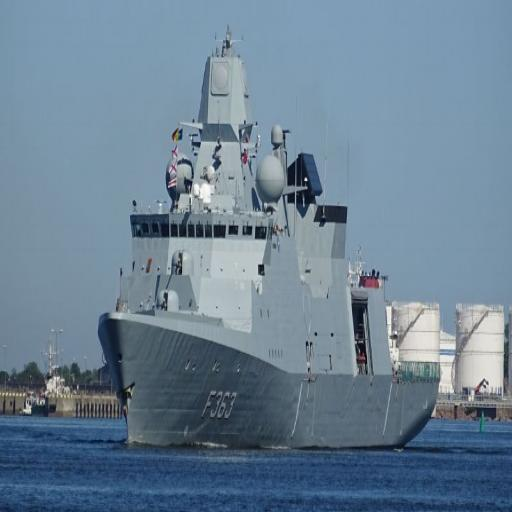Fragata: (97, 18, 444, 455)
